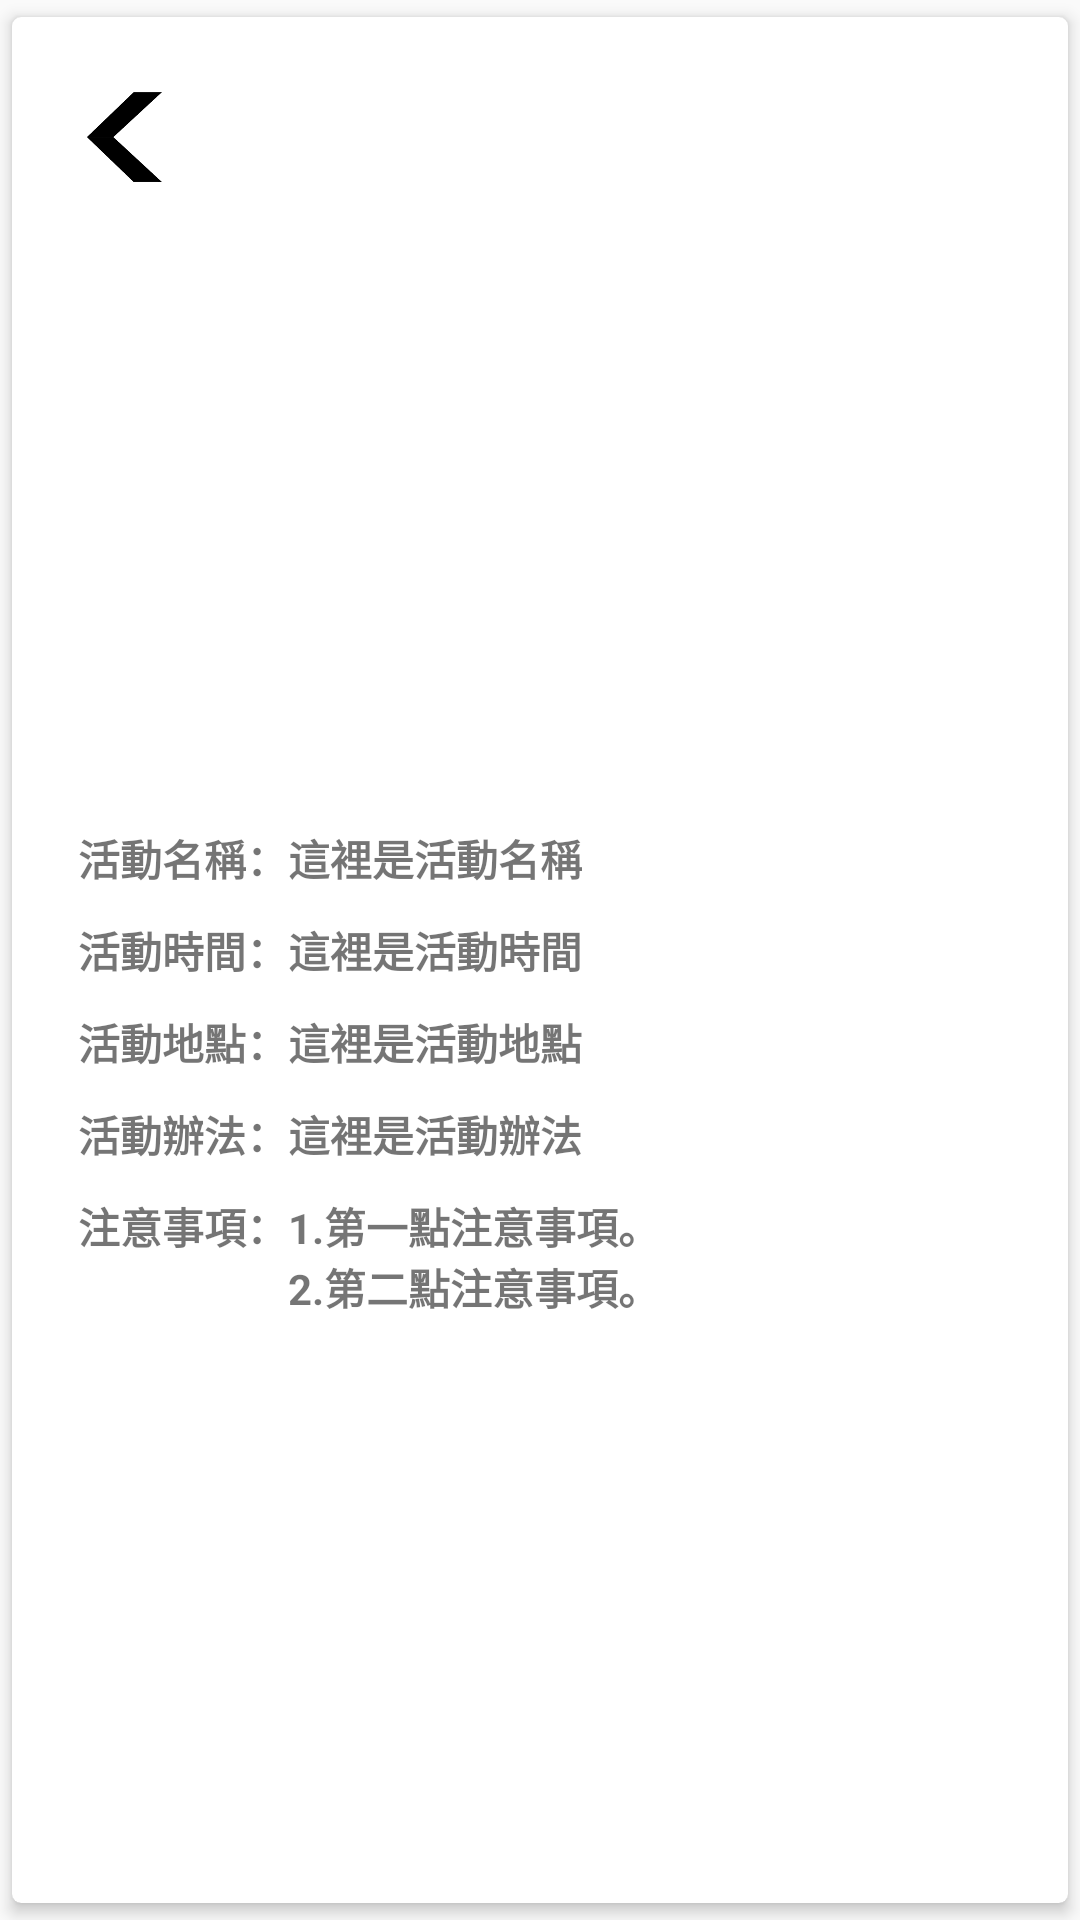

Screen size 1080px x 1920px. Icon name, then its box in pixels as (x1, y1, x2, y2):
back left: (87, 92, 162, 182)
